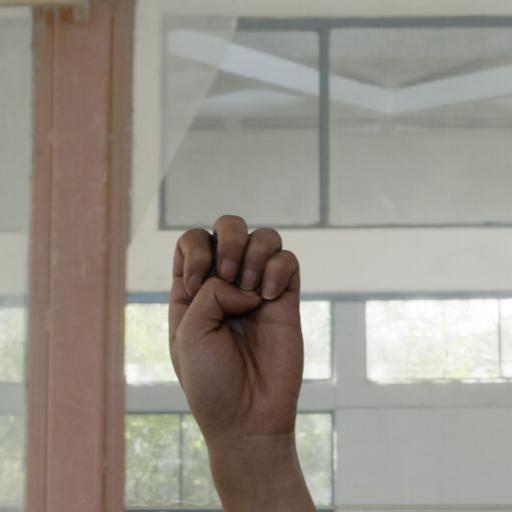E: (146, 189, 328, 480)
